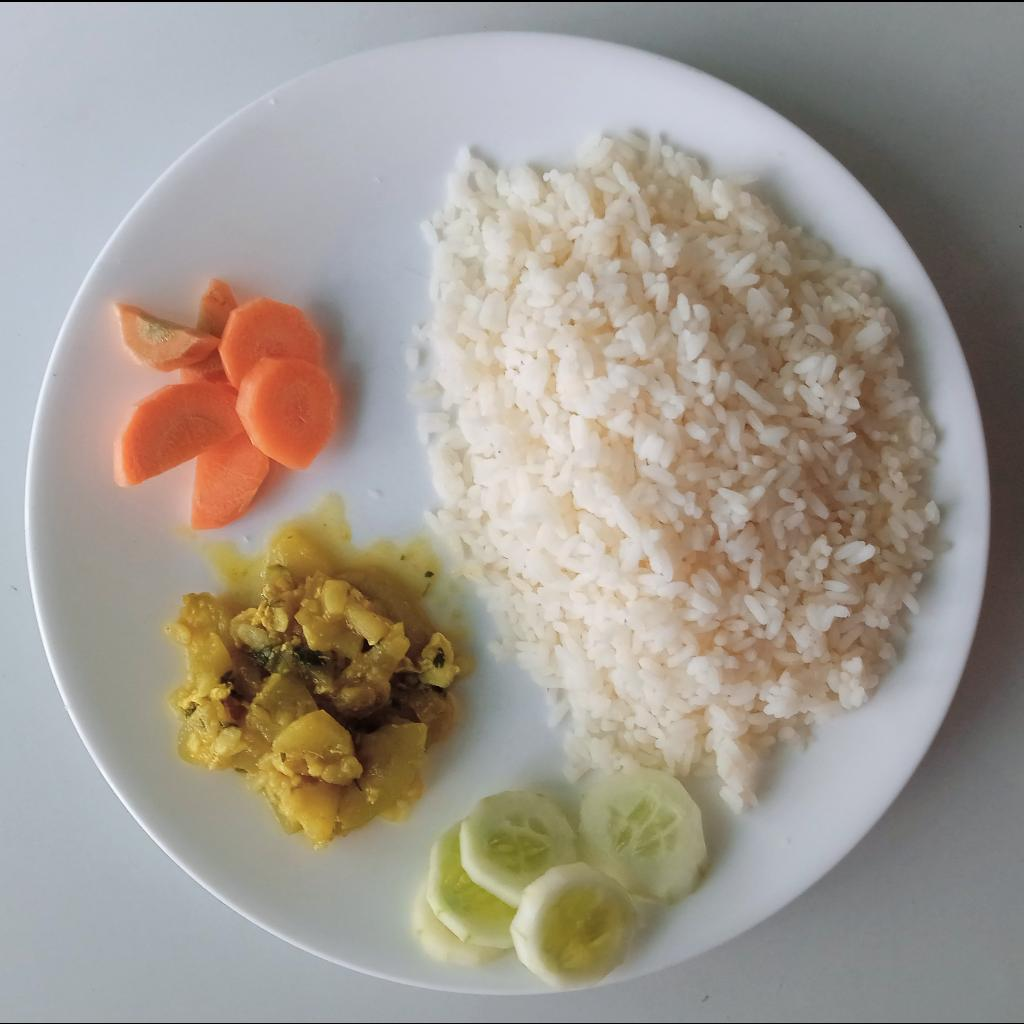carrot: (111, 279, 338, 529)
cucumber: (411, 771, 714, 991)
lau: (165, 529, 470, 844)
rice: (418, 125, 938, 816)
